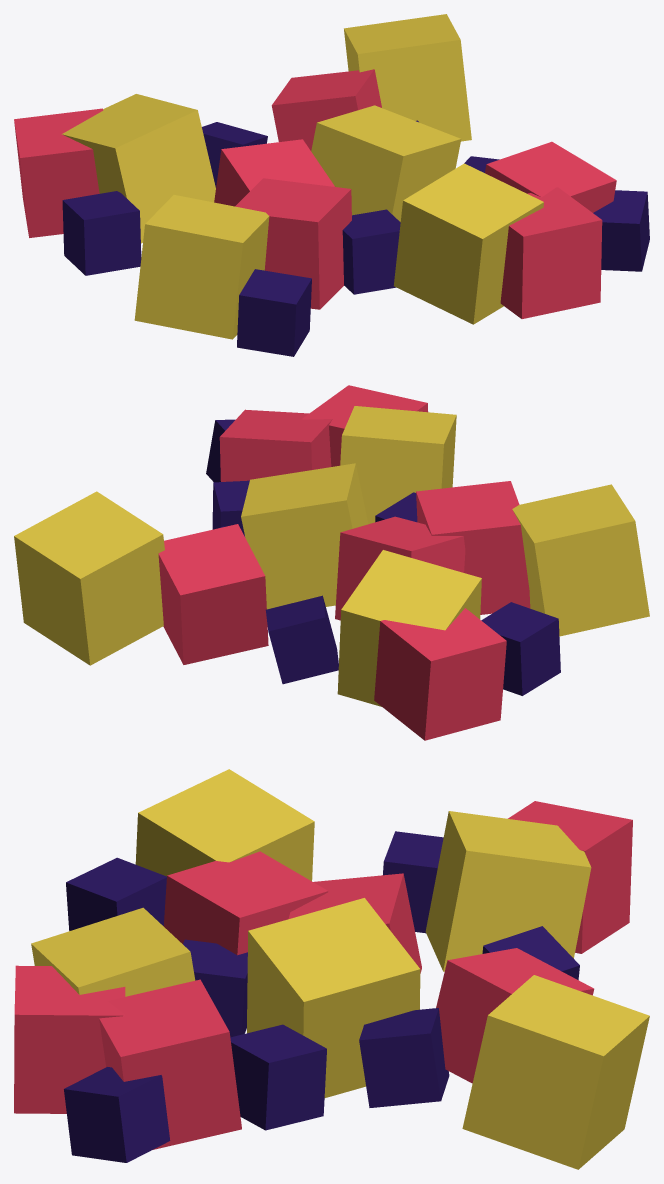
File: CryogenicFruits_Cutted.fbx
3 views of the same model, one above another, from view 1: azimuth 30°, elevation 25°; view 2: azimuth 150°, elevation 25°; view 3: azimuth 270°, elevation 25° (orthographic). The views are drawn at different scales.
Visible parts, largest first — view 1: CryogenicFruits_Cutted; view 2: CryogenicFruits_Cutted; view 3: CryogenicFruits_Cutted.
Part boxes in pixels (box(x1,y1,x2,y2)): CryogenicFruits_Cutted: box(14, 14, 649, 356); CryogenicFruits_Cutted: box(14, 385, 649, 740); CryogenicFruits_Cutted: box(14, 769, 649, 1169).
Size of the model in its own units: 31.01 by 29.49 by 7.66.
